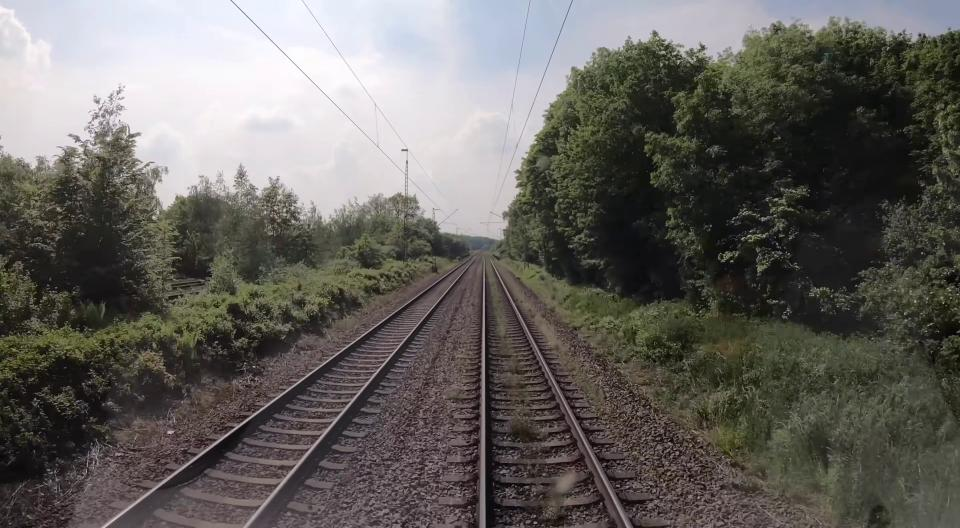Plant: (495, 260, 604, 407), (488, 274, 511, 357), (509, 417, 540, 441), (538, 500, 566, 525), (503, 372, 526, 390), (505, 357, 521, 374)
